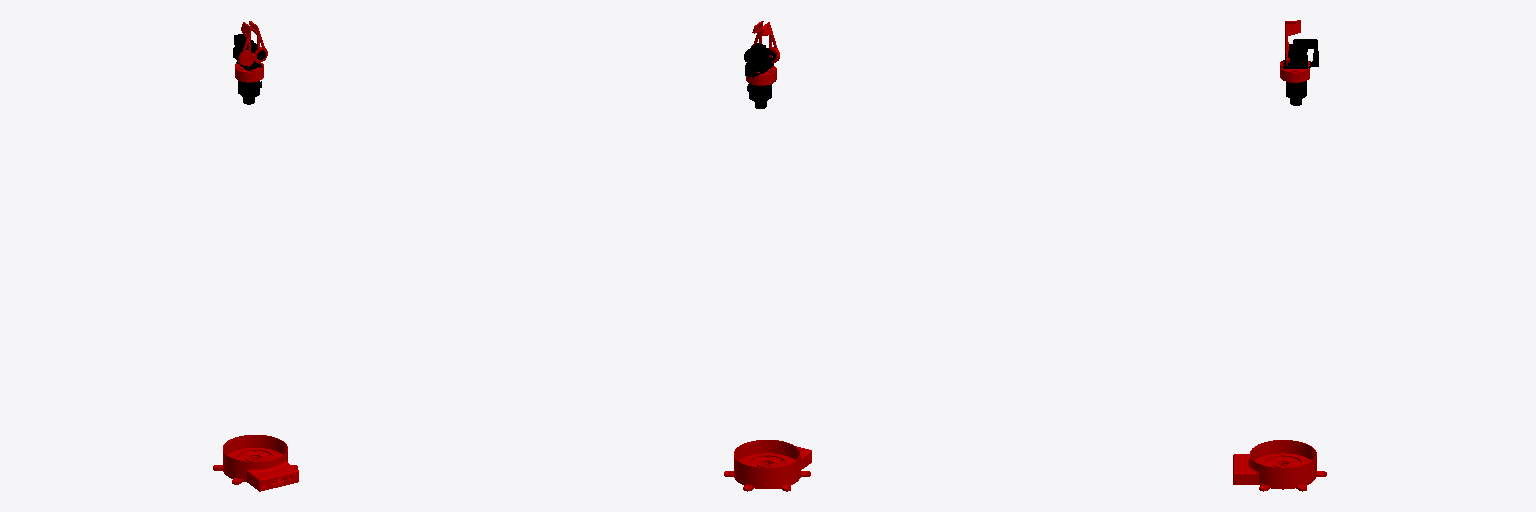
URDF robot description (hek_5L_1.0):
<?xml version="1.0"?>
<robot name="hek_5L_1.0">

  <link name="base_fixed">
    <visual>
      <origin xyz="0 0 0" rpy="0 0 0"/>
      <geometry>
        <mesh filename="package://hekateros_desc/stl/hek_5L_1.0/base_fixed.stl" 
              scale="0.001 0.001 0.001"
        />
      </geometry>
      <material name="red">
        <color rgba="0.8 0 0 0.7"/>
      </material>
    </visual>
  </link>

  <link name="base">
    <visual>
      <origin xyz="0.03 -0.075 0.01" rpy="0 3.14 -1.575"/>
      <geometry>
        <mesh filename="package://hekateros_desc/stl/hek_5L_1.0/base.stl" 
              scale="0.001 0.001 0.001"
        />
      </geometry>
      <material name="black">
        <color rgba="0 0 0 0.7"/>
      </material>
    </visual>
  </link>

  <link name="upper_arm">
    <visual>
      <origin xyz="0.0 0.02 0.18" rpy="1.5705 1.5705 -1.5705"/>
      <geometry>
        <mesh filename="package://hekateros_desc/stl/hek_5L_1.0/upper_arm.stl" 
              scale="0.001 0.001 0.001"
        />
      </geometry>
      <material name="red">
        <color rgba="0.8 0 0 0.9"/>
      </material>
    </visual>
  </link>

  <link name="forearm">
    <visual>
      <origin xyz="0. 0.0 0.03" rpy="03.1415 0 1.5705"/>
      <geometry>
        <mesh filename="package://hekateros_desc/stl/hek_5L_1.0/forearm.stl" 
              scale="0.001 0.001 0.001"
        />
      </geometry>
      <material name="red">
        <color rgba="0.8 0 0 0.9"/>
      </material>
    </visual>
  </link>

  <link name="wrist_link">
    <visual>
      <origin xyz="0.0 0 -0.017" rpy="0 0 0"/>
      <geometry>
        <mesh filename="package://hekateros_desc/stl/hek_5L_1.0/wrist.stl" 
              scale="0.001 0.001 0.001"
        />
      </geometry>
      <material name="black">
        <color rgba="0 0 0 0.9"/>
      </material>
    </visual>
  </link>

  <link name="tool_zero">
    <visual>
      <origin xyz="0 0.06 0" rpy="3.14159 0 0"/>
      <geometry>
        <mesh filename="package://hekateros_desc/stl/hek_5L_1.0/tool_zero.stl" 
              scale="0.001 0.001 0.001"
        />
      </geometry>
      <material name="red">
        <color rgba="0.8 0 0 0.9"/>
      </material>
    </visual>
  </link>

  <joint name="base_rot" type="continuous">
    <origin xyz="0 0 0.055" rpy="0 0 0"/>
    <axis xyz="0 0 1"/>
    <parent link="base_fixed"/>
    <child link="base"/>

    <!-- velocity 200 deg/sec [-->
    <limit effort="30" velocity="3.491" />
  </joint>

  <joint name="shoulder" type="revolute">
    <origin xyz="0.02 0.03 0.125" rpy="0 0 0"/>
    <axis xyz="-1 0 0"/>
    <parent link="base"/>
    <child link="upper_arm"/>

    <!-- velocity 80 deg/sec, range(deg) [-69.9.0, 112.9]-->
    <limit effort="30" velocity="1.396" lower="-1.220" upper="1.970" />
  </joint>

  <joint name="elbow" type="revolute">
    <origin xyz="-0.015 0.0 0.405" rpy="0 0 0"/>
    <axis xyz="-1 0 0"/>
    <parent link="upper_arm"/>
    <child link="forearm"/>

    <!-- velocity 80 deg/sec, range(deg) [-131.0, 131.0]-->
    <limit effort="30" velocity="1.396" lower="-2.286" upper="2.286" />
  </joint>

  <joint name="wrist_pitch" type="revolute">
    <origin xyz="-0.005 0 0.40" rpy="0 0 0"/>
    <axis xyz="-1 0 0"/>
    <parent link="forearm"/>
    <child link="wrist_link"/>

    <!-- velocity 80 deg/sec, range(deg) [-90.0, 90.9]-->
    <limit effort="30" velocity="1.396" lower="-1.571" upper="1.571" />
  </joint>

  <joint name="wrist_rot" type="continuous">
    <origin xyz="0 0 0.025" rpy="0 0 0"/>
    <axis xyz="0 0 1"/>
    <parent link="wrist_link"/>
    <child link="tool_zero"/>

    <!-- velocity 100 deg/sec -->
    <limit effort="30" velocity="1.745" lower="-1.57" upper="1.57" />
  </joint>

  <!-- EEF -->
  <link name="gear_assembly">
    <visual>
      <origin xyz="0 0 0.02" rpy="0 -1.575 3.14159"/>
      <geometry>
        <mesh filename="package://hekateros_desc/stl/graboid/gear_assembly.stl" 
              scale="0.001 0.001 0.001"
        />
      </geometry>
      <material name="black">
        <color rgba="0 0 0 0.7"/>
      </material>
    </visual>
  </link>

  <link name="finger_R">
    <visual>
      <origin xyz="0 0 0" rpy="0 0 -1.7"/>
      <geometry>
        <mesh filename="package://hekateros_desc/stl/graboid/finger_R.stl" 
              scale="0.001 0.001 0.001"
        />
      </geometry>
      <material name="red">
        <color rgba="0.8 0 0 0.9"/>
      </material>
    </visual>
  </link>

  <link name="finger_L">
    <visual>
      <origin xyz="0 0 0" rpy="0 -3.141 -1.575"/>
      <geometry>
        <mesh filename="package://hekateros_desc/stl/graboid/finger_L.stl" 
              scale="0.001 0.001 0.001"
        />
      </geometry>
      <material name="red">
        <color rgba="0.8 0 0 0.9"/>
      </material>
    </visual>
  </link>

  <joint name="grip" type="revolute">
    <axis xyz="0 0 -1"/>
    <origin xyz="0.005 -0.04 0.03" rpy="0 -1.575 0"/>
    <parent link="gear_assembly"/>
    <child link="finger_R"/>

    <!-- velocity 80 deg/sec, range(deg) [-1.0, 59.9]-->
    <limit effort="30" velocity="1.396" lower="-0.017" upper="1.045" />
  </joint>

  <joint name="grip_mimic" type="revolute">
    <axis xyz="0 0 1"/>
    <origin xyz="0.0 0.0 0.03" rpy="0 -1.575 0"/>
    <parent link="gear_assembly"/>
    <child link="finger_L"/>

    <limit effort="30" velocity="1.0" lower="-1.57" upper="1.57" />
    <mimic joint="grip"/>
  </joint>


  <joint name="eef_connect" type="fixed">
    <origin xyz="-0.02 -0.025 0.03" rpy="0 0 1.575"/>
    <parent link="tool_zero"/>
    <child link="gear_assembly"/>
  </joint>

</robot>

--- What the picture shows (computed from the rendered views, not written in the file) ---
The picture shows the robot from 3 angles, left to right: view 1: azimuth 30°, elevation 25°; view 2: azimuth 150°, elevation 25°; view 3: azimuth 270°, elevation 25°; orthographic projection.
Model hek_5L_1.0 with 9 links and 8 joints (5 revolute, 2 continuous, 1 fixed), rooted at base_fixed, posed all joints at 0.
Links seen in each view (by area): view 1: base_fixed; view 2: base_fixed, gear_assembly; view 3: base_fixed, gear_assembly.
Link boxes in pixels (left/top/right/bottom): base_fixed: left=213, top=435, right=298, bottom=491; base_fixed: left=724, top=440, right=811, bottom=491; gear_assembly: left=744, top=43, right=775, bottom=77; base_fixed: left=1233, top=440, right=1326, bottom=491; gear_assembly: left=1282, top=39, right=1318, bottom=68.
Size in the robot's own frame: 0.1759 by 0.215 by 1.15 metres.
6 mesh visuals loaded from 9 distinct referenced files (6 binary STL); not drawn: 3 (reference not matched to a file when rendering).
